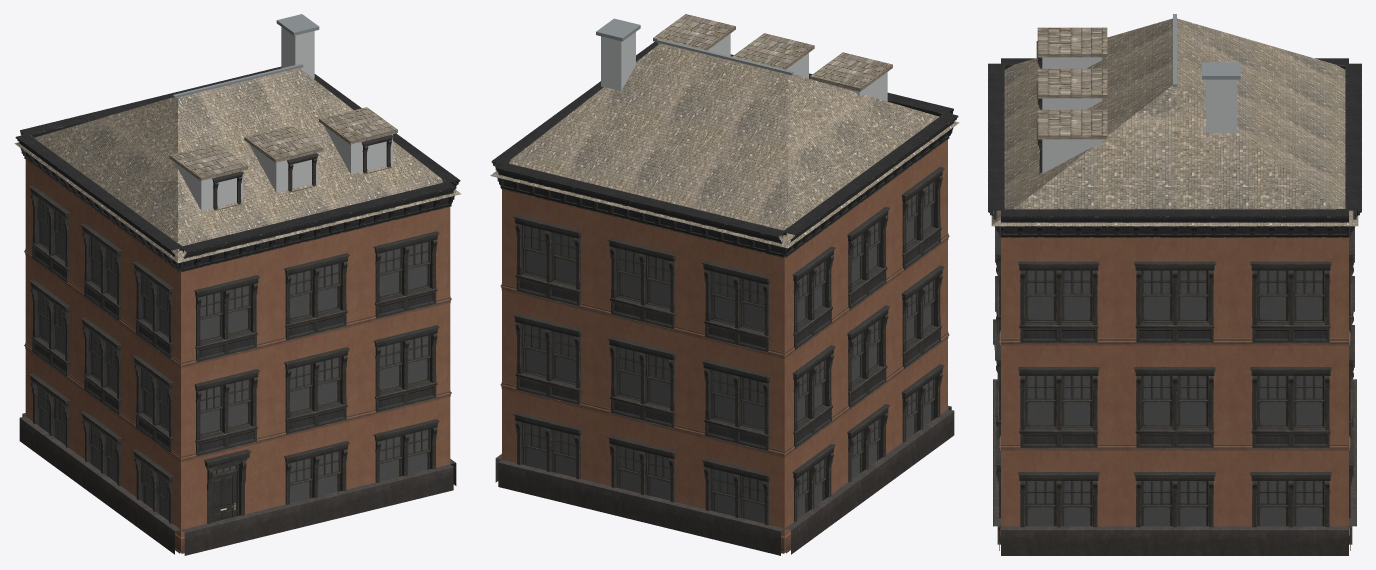
File: coastal-facade.glb
3 views of the same model, side by side, from view 1: azimuth 30°, elevation 25°; view 2: azimuth 150°, elevation 25°; view 3: azimuth 270°, elevation 25° (orthographic). The views are drawn at different scales.
Parts seen in each view (by area): view 1: Coastal Facade; view 2: Coastal Facade; view 3: Coastal Facade.
Boxes of the visible parts, box(x1,y1,x2,y2) form: Coastal Facade: box(14, 14, 461, 555); Coastal Facade: box(490, 14, 959, 555); Coastal Facade: box(988, 14, 1361, 555).
Size of the model in its own units: 9.66 by 12.95 by 9.66.
Materials: 9 (6 with a texture image).
